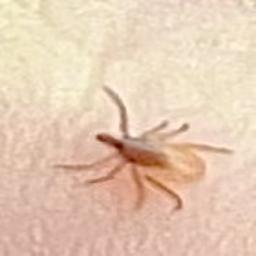Ixodes scapularis: (52, 84, 237, 212)
